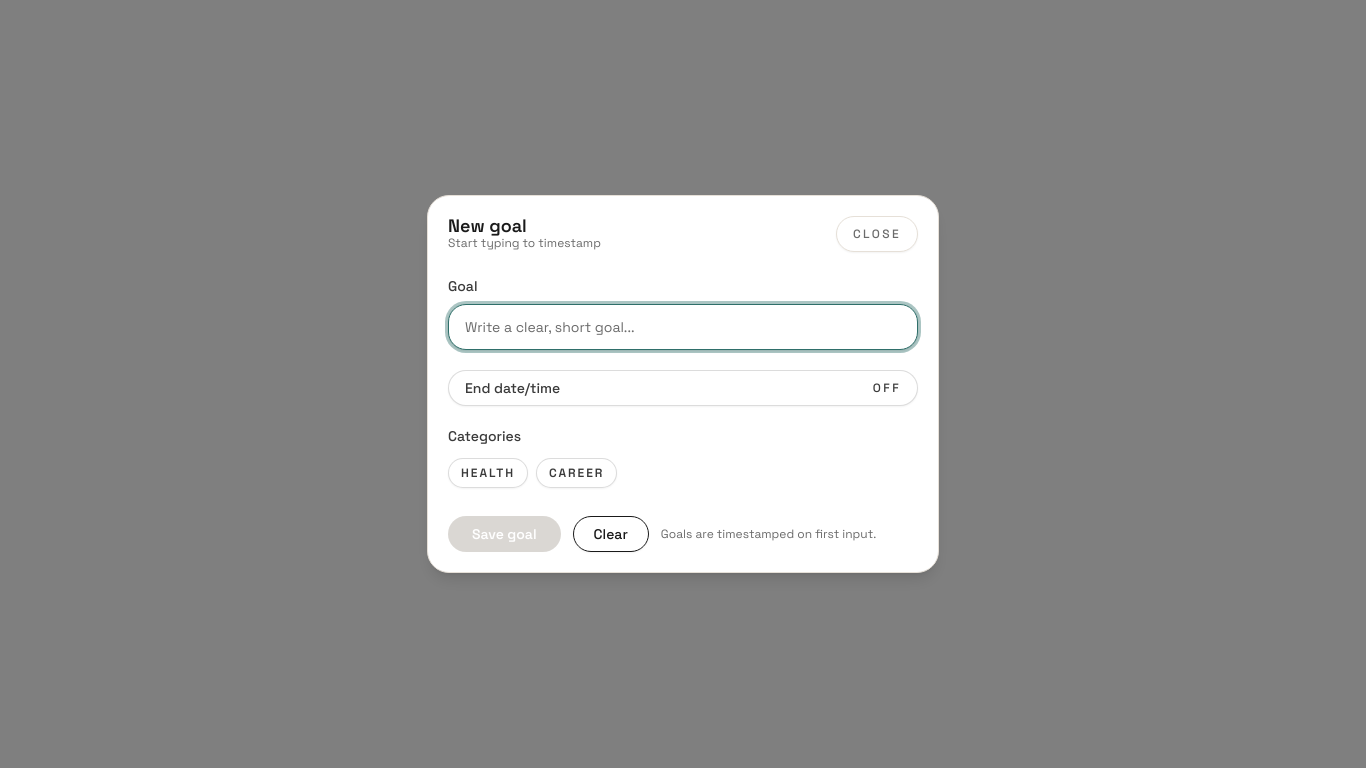
NewGoalDialog › reveals the end-date input when the toggle is on
The width and height of the screenshot is (1366, 768).
Click the button "End date/time Off". click: point(513, 388)
box: left=448, top=370, right=918, bottom=406
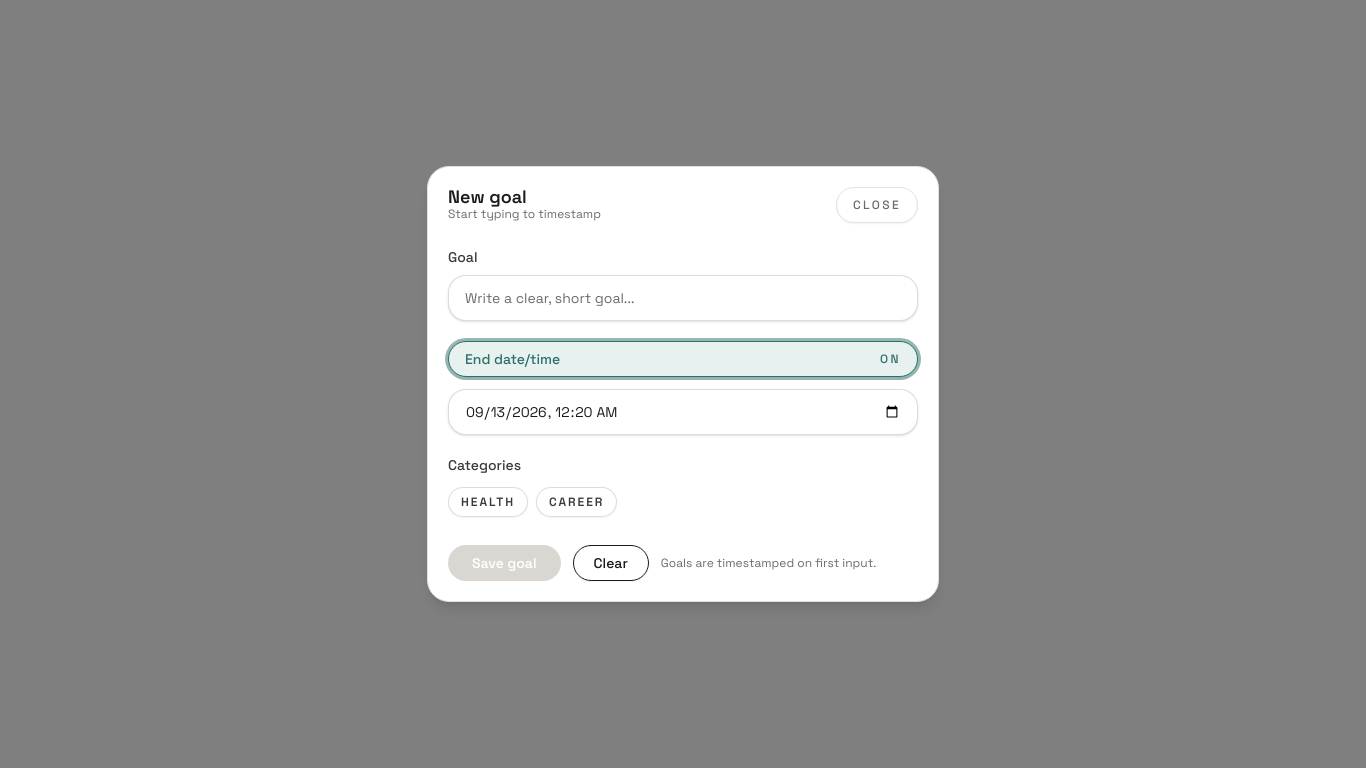
Check: the 2nd field is shown, box left=448, top=389, right=918, bottom=435
